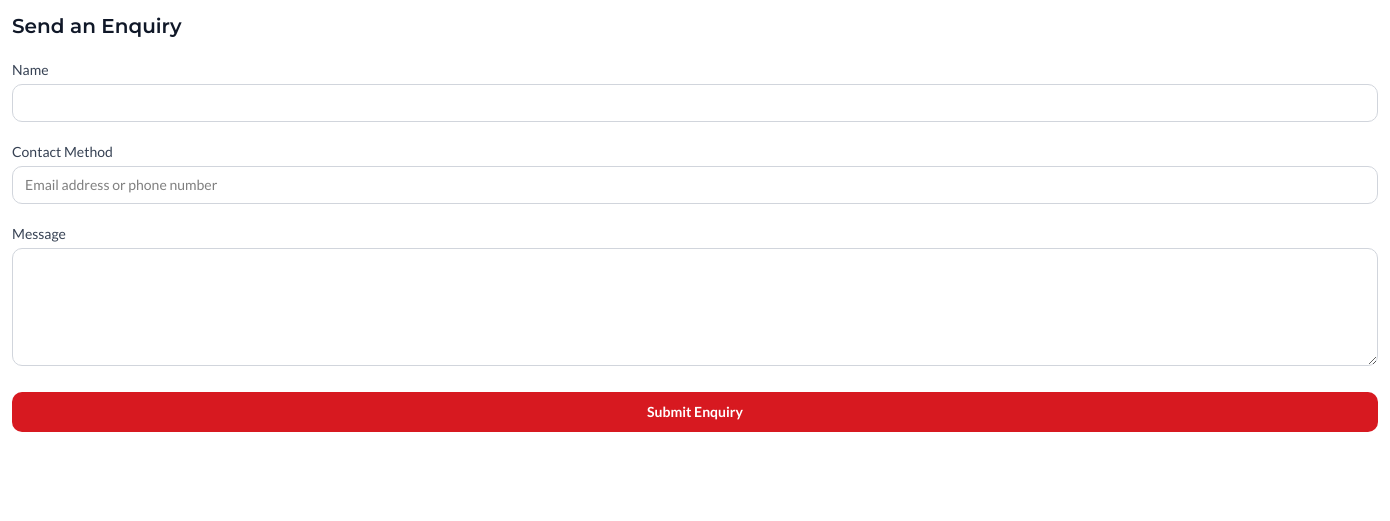
Scenario: EnquiryForm › should show validation error for invalid contact method
Type "invalid" into the field labelled "Contact Method" at (695, 185), box left=12, top=166, right=1378, bottom=204
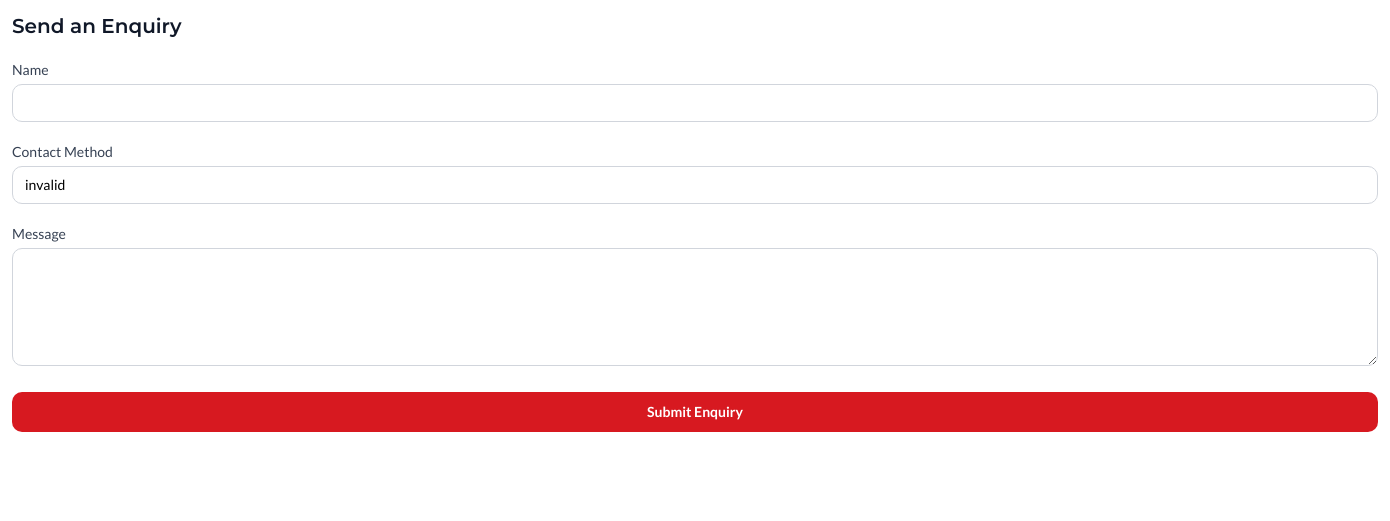
Click the button "Submit Enquiry" at (695, 412), box left=12, top=392, right=1378, bottom=432
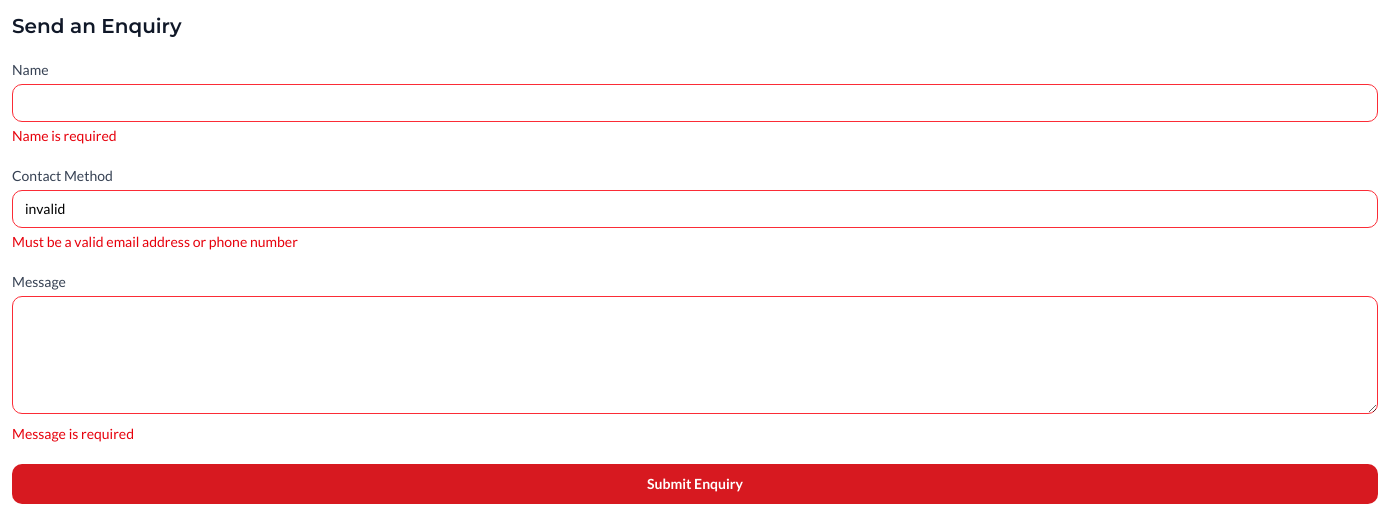
Expected: the text "Must be a valid email address or phone number" is shown, left=12, top=233, right=298, bottom=250
